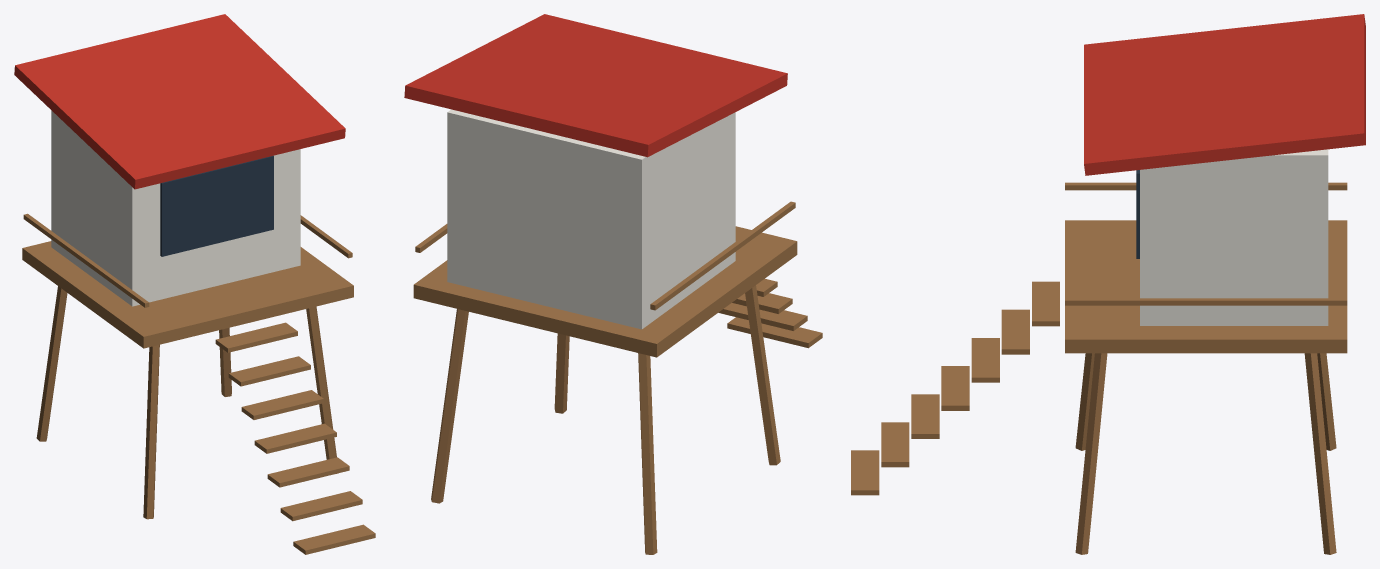
The model's file is lifeguard.glb.
3 renders of one model, left to right at view 1: azimuth 30°, elevation 25°; view 2: azimuth 150°, elevation 25°; view 3: azimuth 270°, elevation 25°, orthographic. The views are drawn at different scales.
Parts seen in each view (by area): view 1: lifeguard; view 2: lifeguard; view 3: lifeguard.
Part boxes in pixels (<box>): lifeguard: <box>14,14,375,554</box>; lifeguard: <box>404,14,822,554</box>; lifeguard: <box>851,14,1365,554</box>.
Bounding box in the file's own units: 3 × 5.01 × 5.47.
